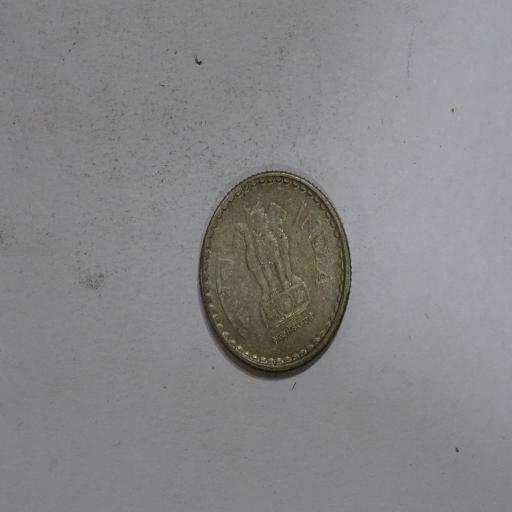rupee5: (198, 169, 352, 374)
